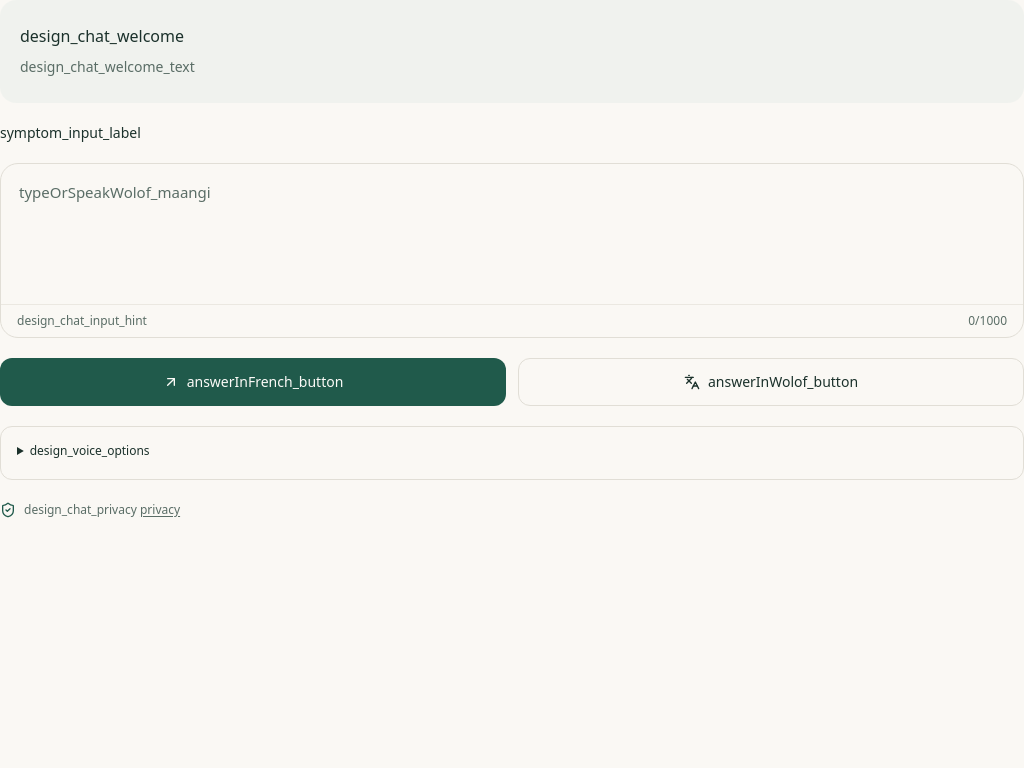
it: confirmation d’âge avant le pré-diagnostic › demande la confirmation et n’appelle pas l’API avant
Type "Mangi am sëkk" into the text box with placeholder "typeOrSpeakWolof_maangi" at coordinates (512, 234), box [1,164,1023,304]
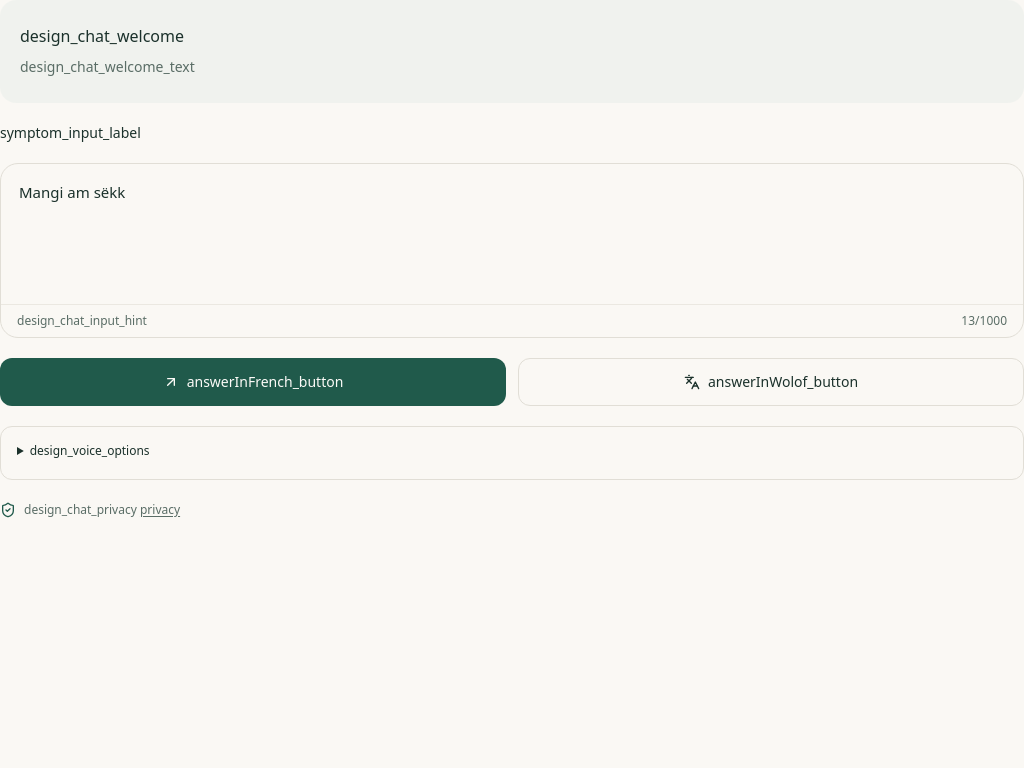
Click the button "answerInFrench_button" at coordinates (253, 382), box [0,358,506,406]
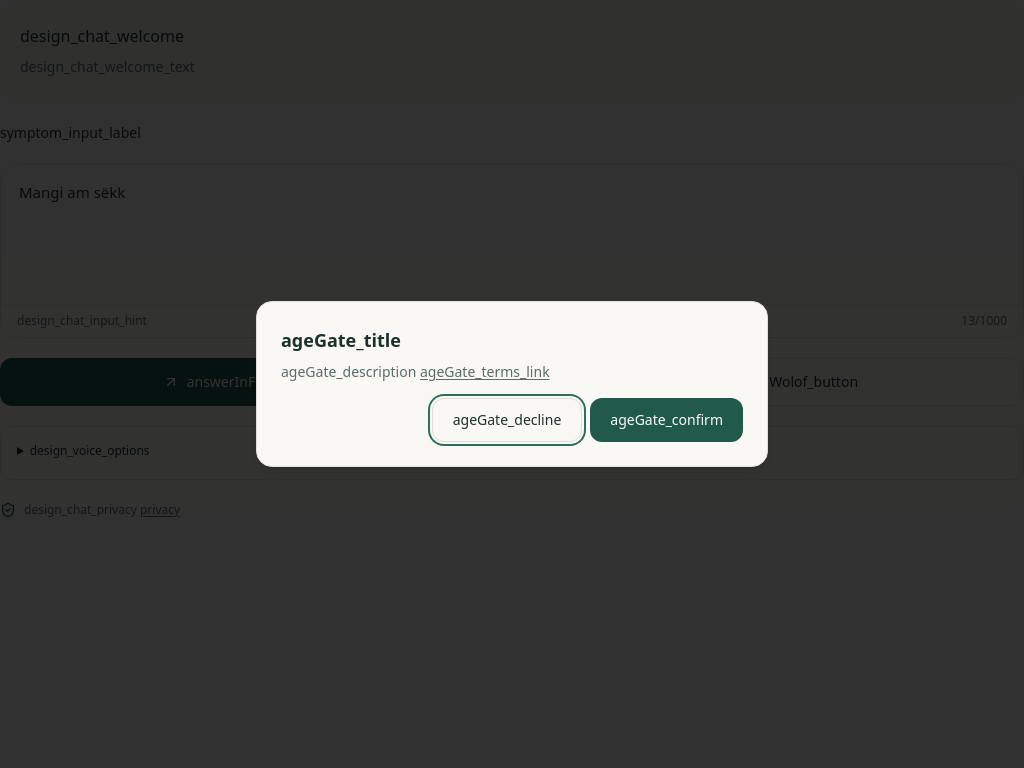
Expected: the heading "ageGate_title" is shown, [281,328,401,352]
